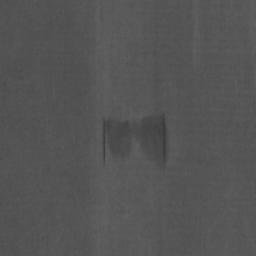Rolled pit: (103, 115, 166, 166)
